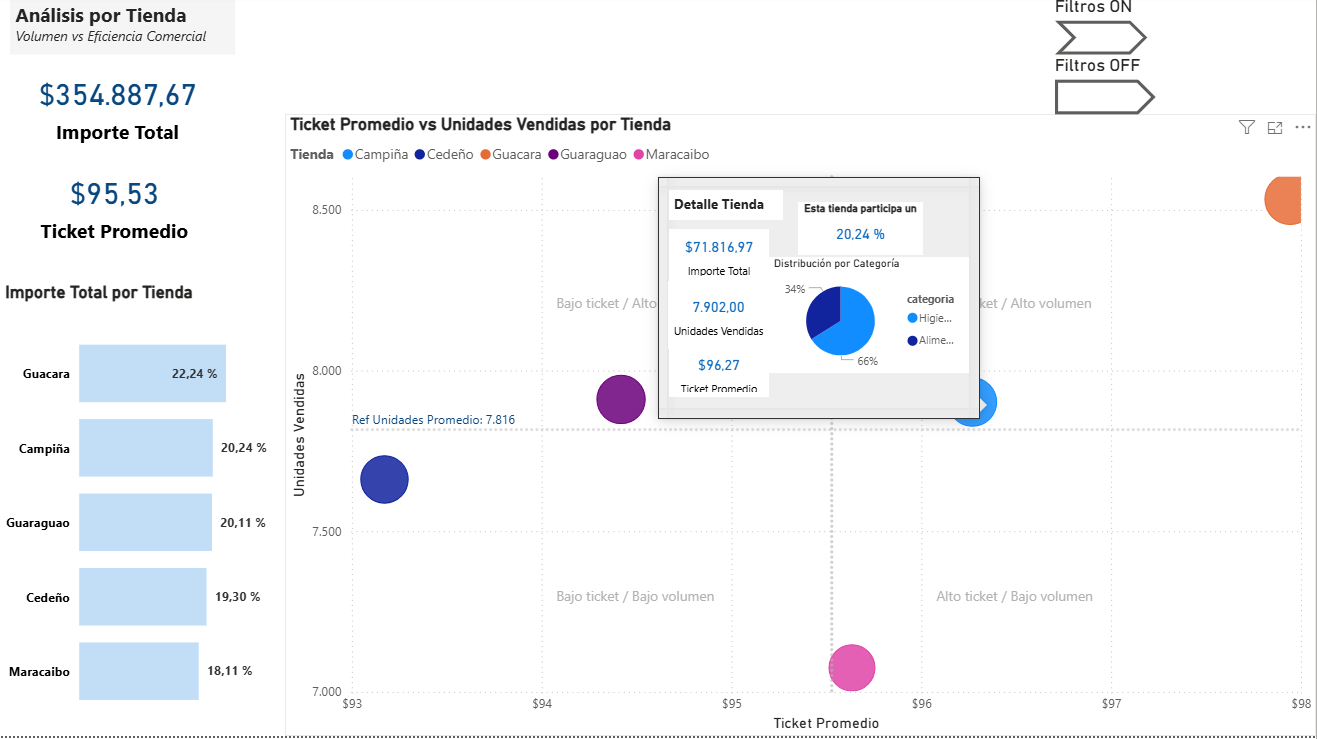

The dashboard page shown, as its layout file describes it:
{"tool":"powerbi","page":{"name":"Análisis por Tienda","canvas":[1280,720],"ordinal":2},"visuals":[{"type":"textbox","box":[9.6,0,219,56.9],"z":0},{"type":"card","fields":{"Values":["Fact_ventas.Importe Total"]},"box":[0,58.7,228.7,95.5],"z":1000},{"type":"card","fields":{"Values":["Fact_ventas.Ticket Promedio"]},"box":[0,154.2,222.5,95.5],"z":2000},{"type":"scatterChart","title":"Ticket Promedio vs Unidades Vendidas por Tienda","fields":{"Size":["Fact_ventas.Importe Total"],"Series":["Tiendas.nombre_tienda"],"Y":["Fact_ventas.Unidades Vendidas"],"X":["Fact_ventas.Ticket Promedio"]},"box":[276.9,114.8,1003.1,605.4],"z":3000},{"type":"actionButton","title":"Filtros ON","box":[1026.6,0,89.8,56.9],"z":5000},{"type":"actionButton","title":"Filtros OFF","box":[1026.6,56.9,97.8,57.7],"z":6000},{"type":"clusteredBarChart","title":"Importe Total por Tienda","fields":{"Category":["Tiendas.nombre_tienda"],"Y":["Fact_ventas.% Part Importe Tienda"]},"box":[0,277.7,276.9,442.4],"z":7000},{"type":"textbox","box":[536.2,283.9,165.6,31.5],"z":8000},{"type":"textbox","box":[905.9,283.9,165.6,31.5],"z":9000},{"type":"textbox","box":[536.2,569.5,165.6,31.5],"z":10000},{"type":"textbox","box":[905.9,569.5,165.6,31.5],"z":11000}]}

Visuals, with their boxes in screenshot pixels (x1, y1, x2, y2), scaled from the page's 1280x720 canvas onto the 1317x739 screenshot:
textbox: 10, 0, 235, 58
card - Fact_ventas.Importe Total: 0, 60, 235, 158
card - Fact_ventas.Ticket Promedio: 0, 158, 229, 256
"Ticket Promedio vs Unidades Vendidas por Tienda" scatterChart: 285, 118, 1316, 738
"Filtros ON" actionButton: 1056, 0, 1149, 58
"Filtros OFF" actionButton: 1056, 58, 1157, 118
"Importe Total por Tienda" clusteredBarChart: 0, 285, 285, 738
textbox: 552, 291, 722, 324
textbox: 932, 291, 1102, 324
textbox: 552, 585, 722, 617
textbox: 932, 585, 1102, 617
